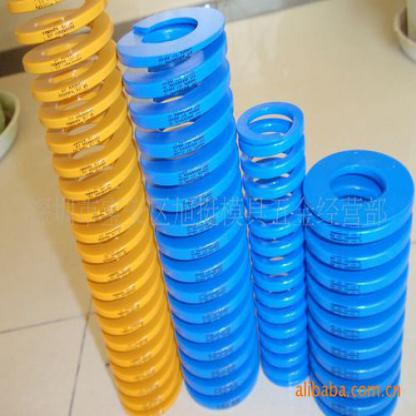FOD: (5, 0, 188, 415), (115, 5, 261, 413), (300, 143, 416, 415), (234, 99, 312, 389)
